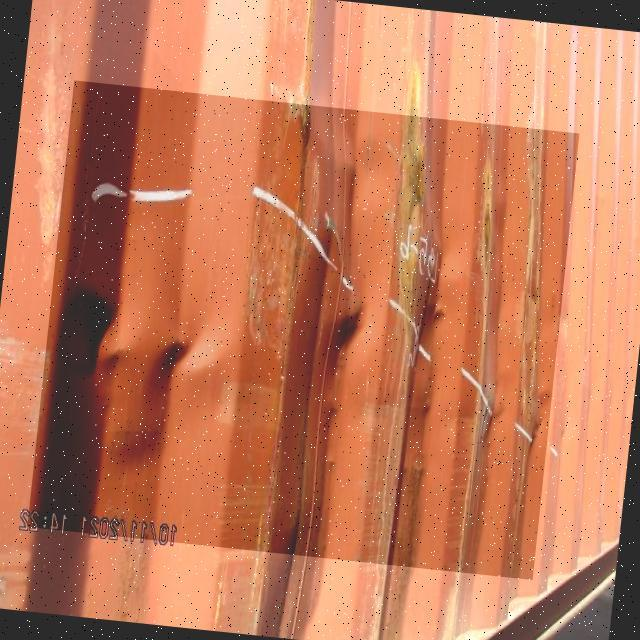dent: (28, 81, 580, 581)
